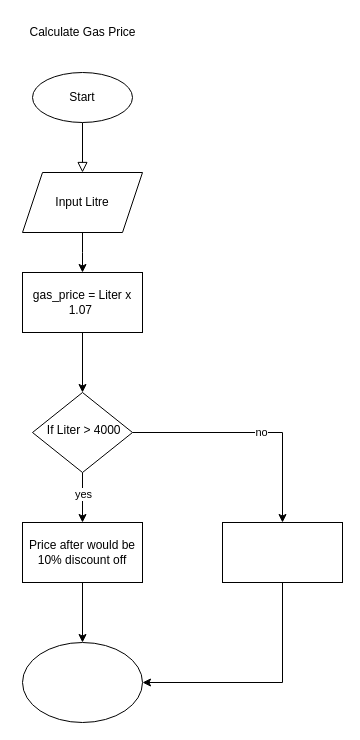
This 360x740 diagram has some shape labels left out. The centre of each missing label's shape, as x and y in pixels:
"End" belongs at [82,682].
"Price after is same with price before" belongs at [282,552].
